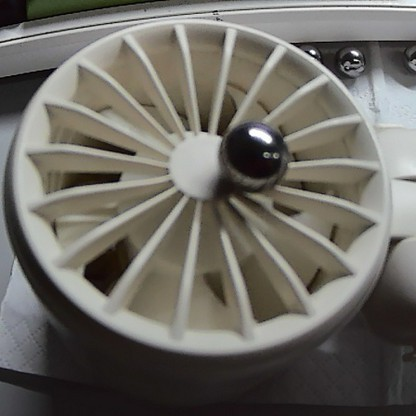ironball: (221, 113, 293, 187), (336, 41, 370, 78), (293, 36, 328, 71), (399, 37, 414, 74)
